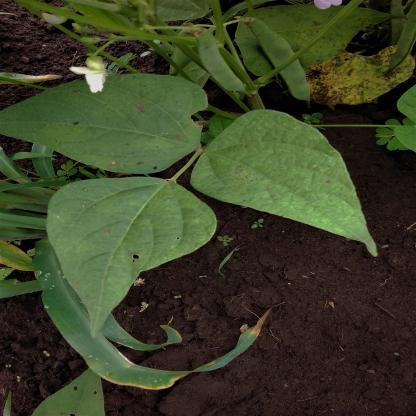Beans_Angular_LeafSpot: (48, 176, 217, 332), (191, 106, 369, 232), (5, 75, 202, 177), (303, 48, 415, 108)
